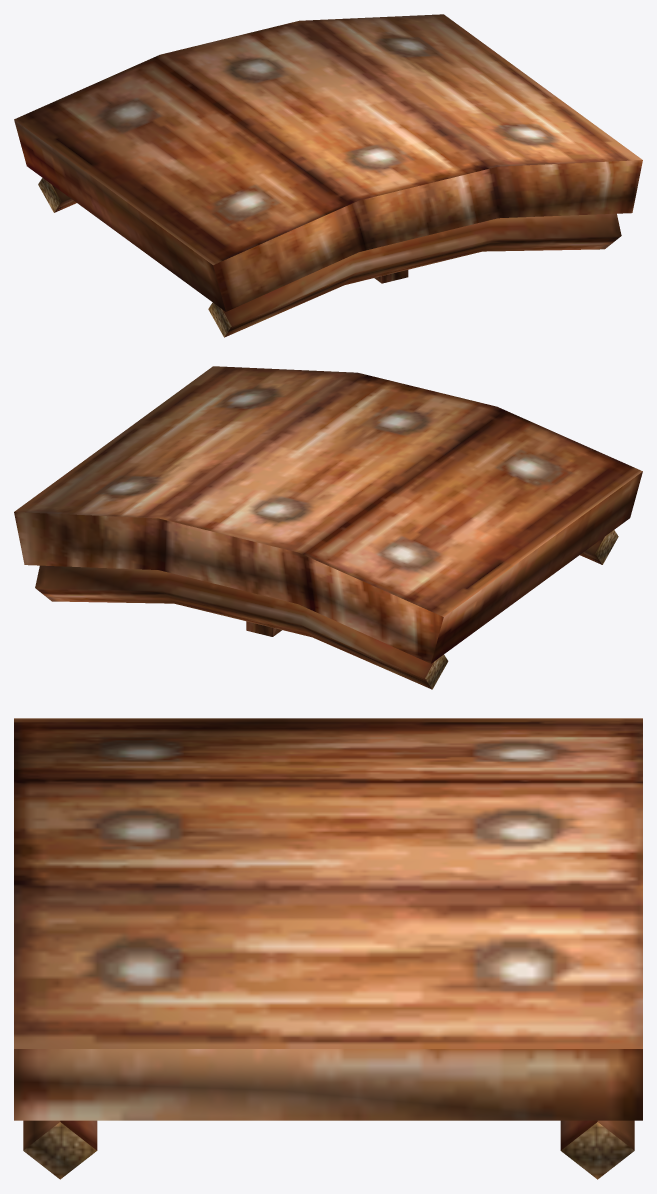
File: item_armshiwooden.glb
The picture shows the model from 3 angles, top to bottom: view 1: azimuth 30°, elevation 25°; view 2: azimuth 150°, elevation 25°; view 3: azimuth 270°, elevation 25°; orthographic projection. The views are drawn at different scales.
Visible parts, largest first — view 1: item_0; view 2: item_0; view 3: item_0.
Boxes of the visible parts, x1,y1,x2,y2 form: item_0: [14, 14, 642, 337]; item_0: [14, 366, 642, 689]; item_0: [14, 718, 642, 1179].
Bounding box in the file's own units: 0.5283 × 0.157 × 0.424.
Materials: 1 (1 with a texture image).
